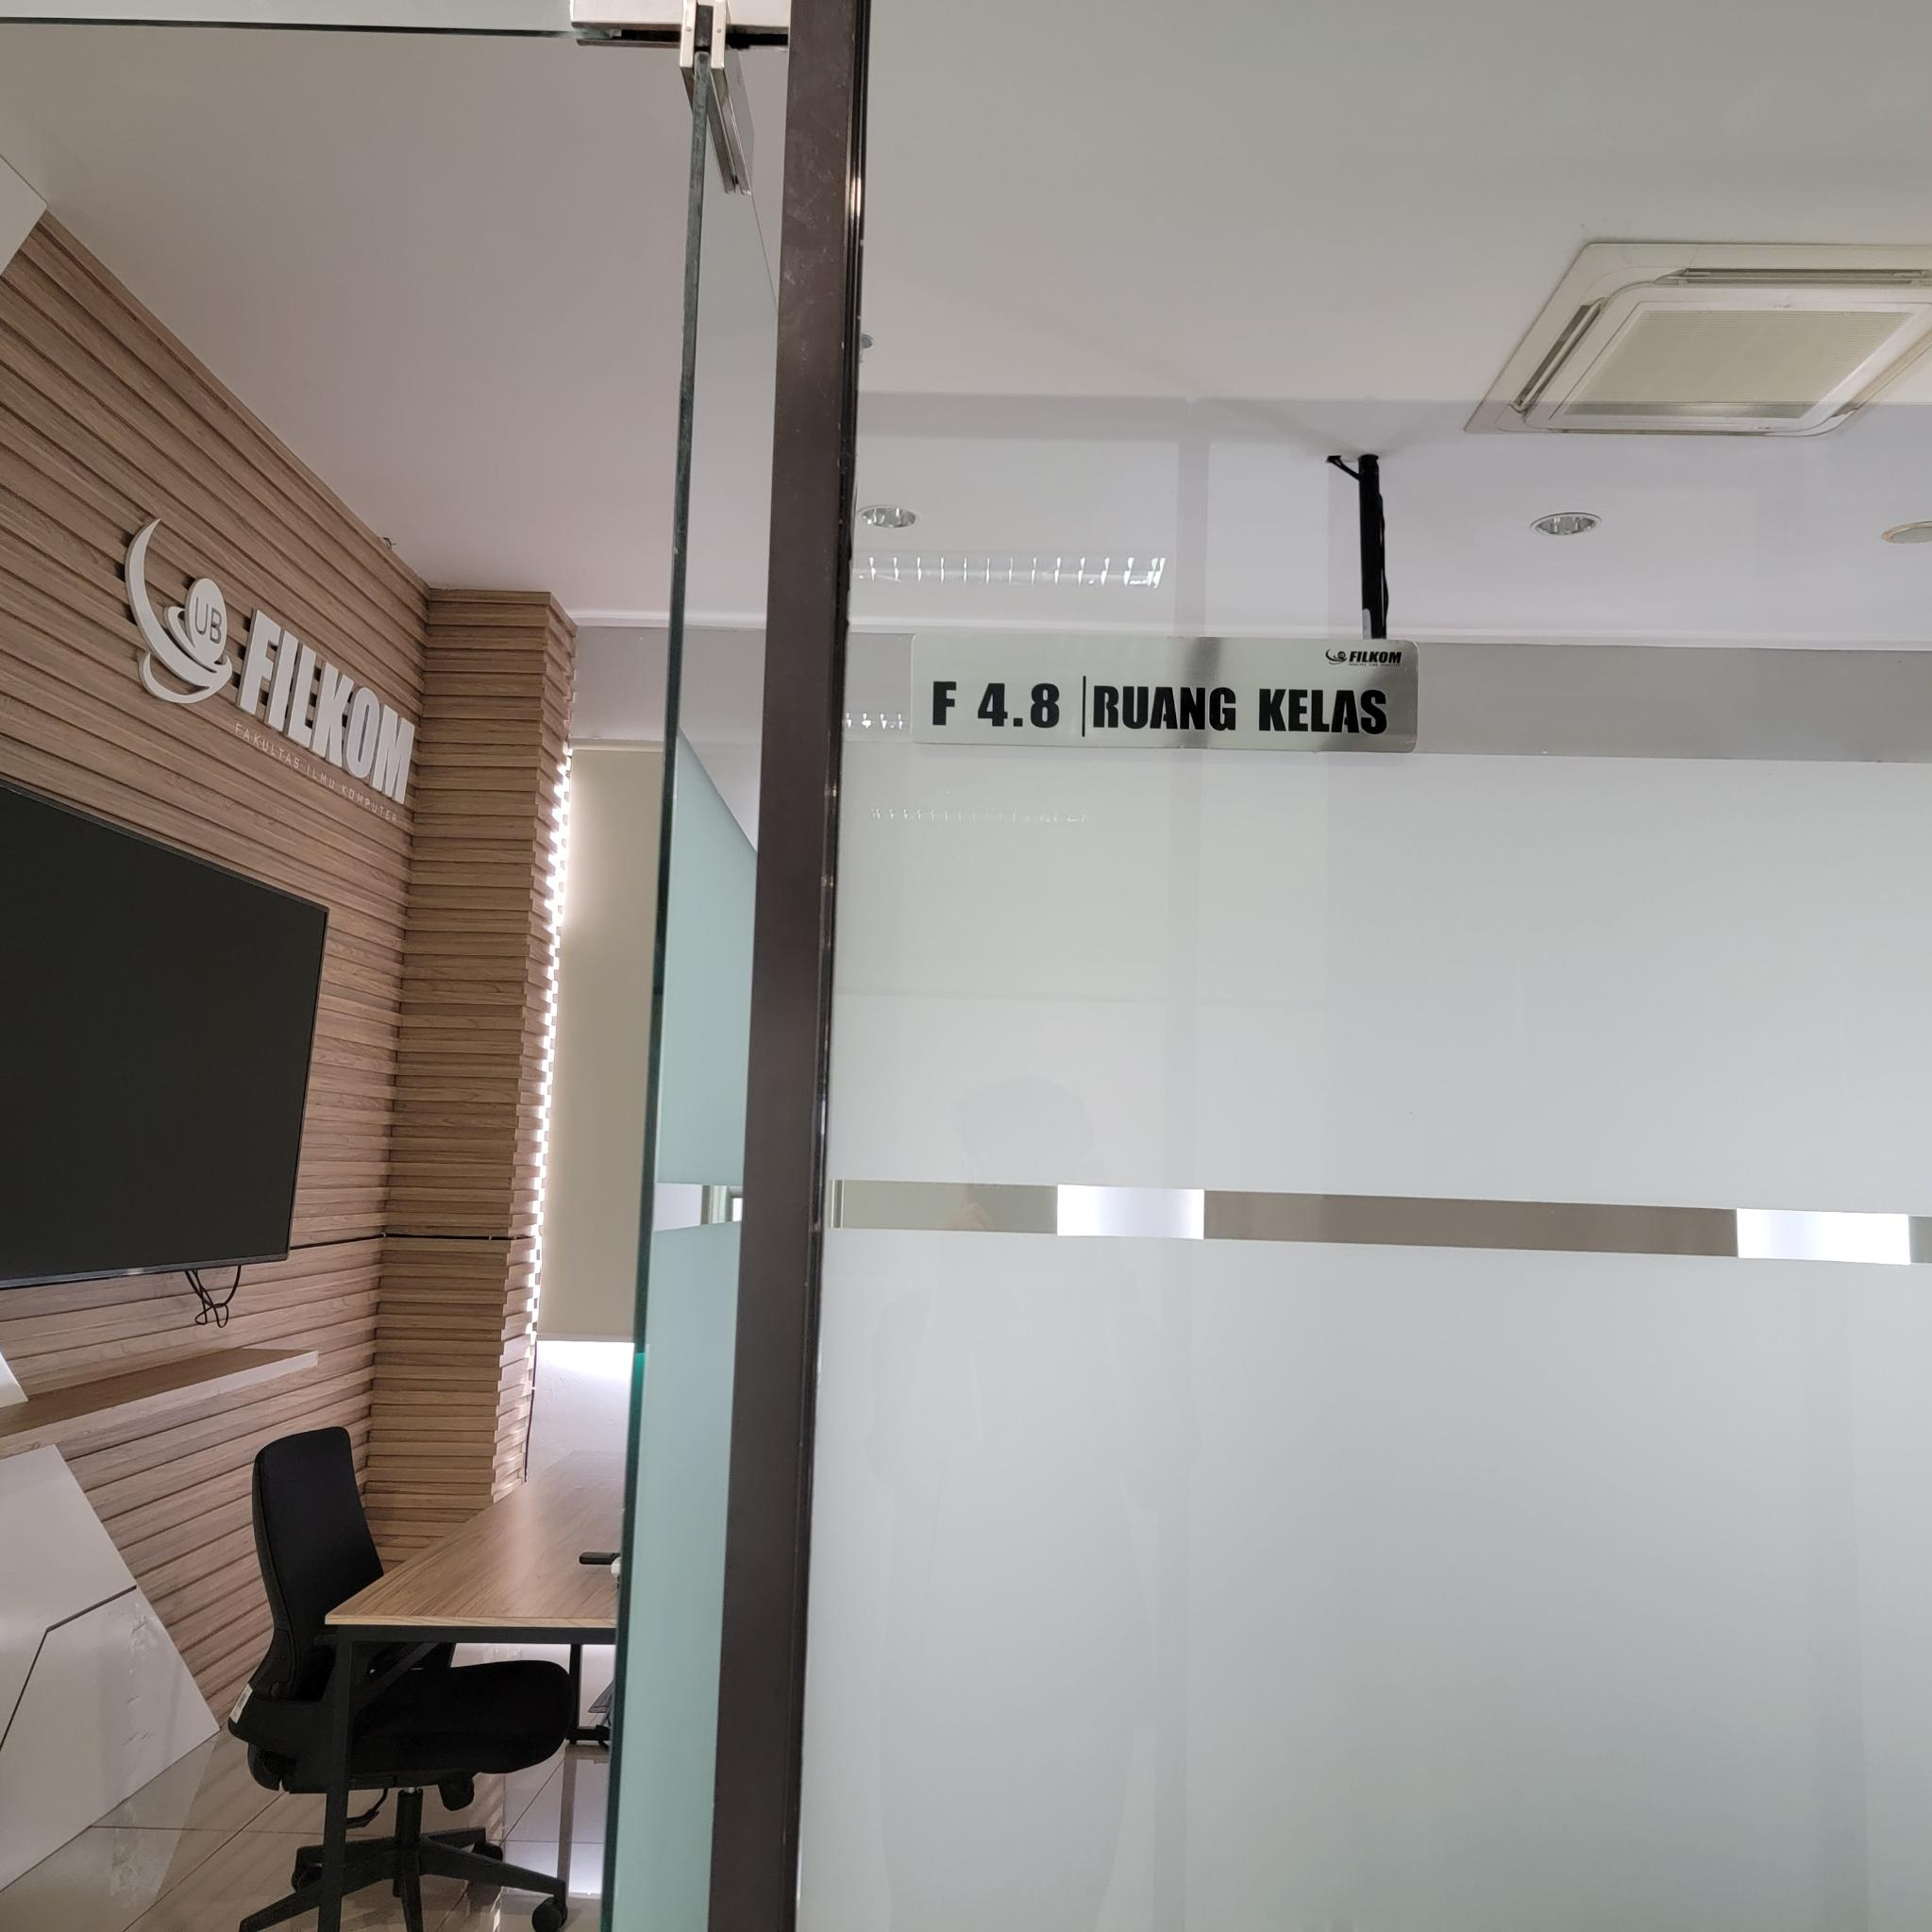plate: (911, 630, 1417, 754)
